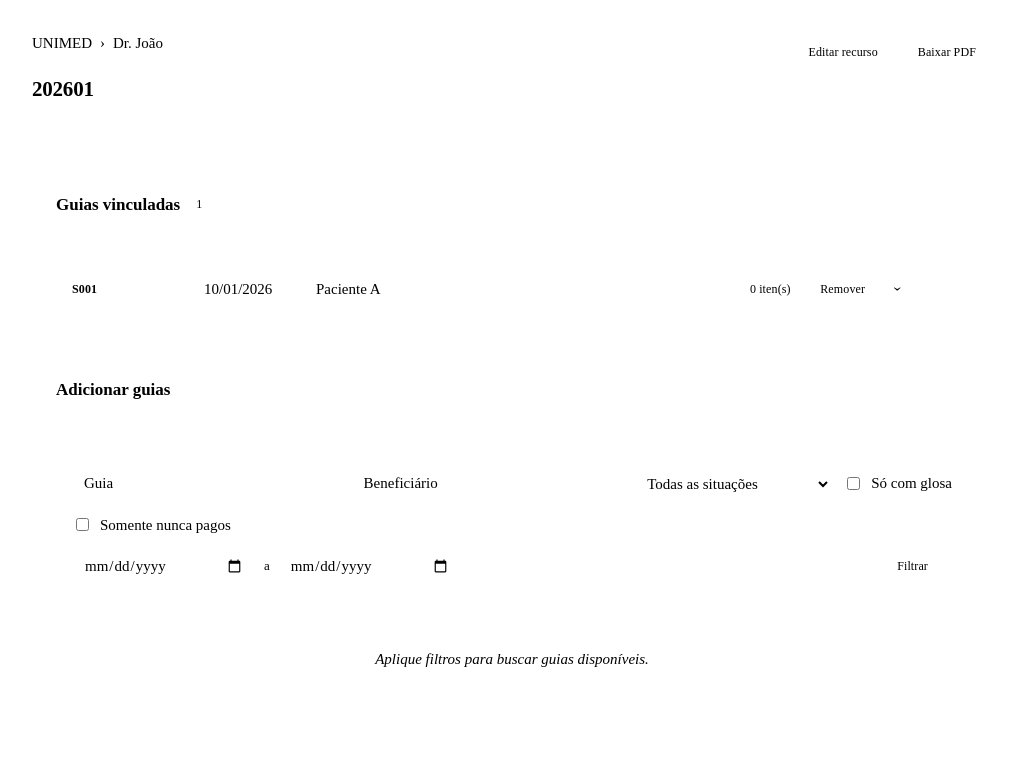
Test case: RecursoGuiasComponent › erroRemoverExibeMensagem
Click the button with class "guia-card__remover" at (843, 289), box [803,277,883,302]
(page scrolled)
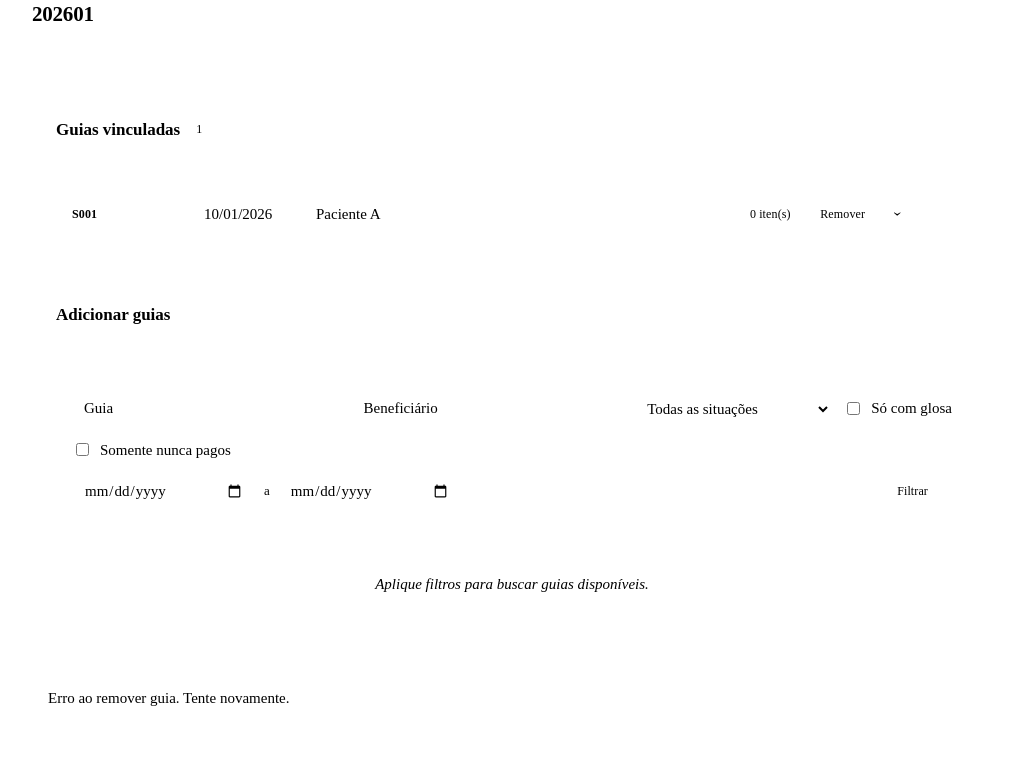
Expected: the text "Erro ao remover guia. Tente novamente." is shown, [48,690,290,706]
